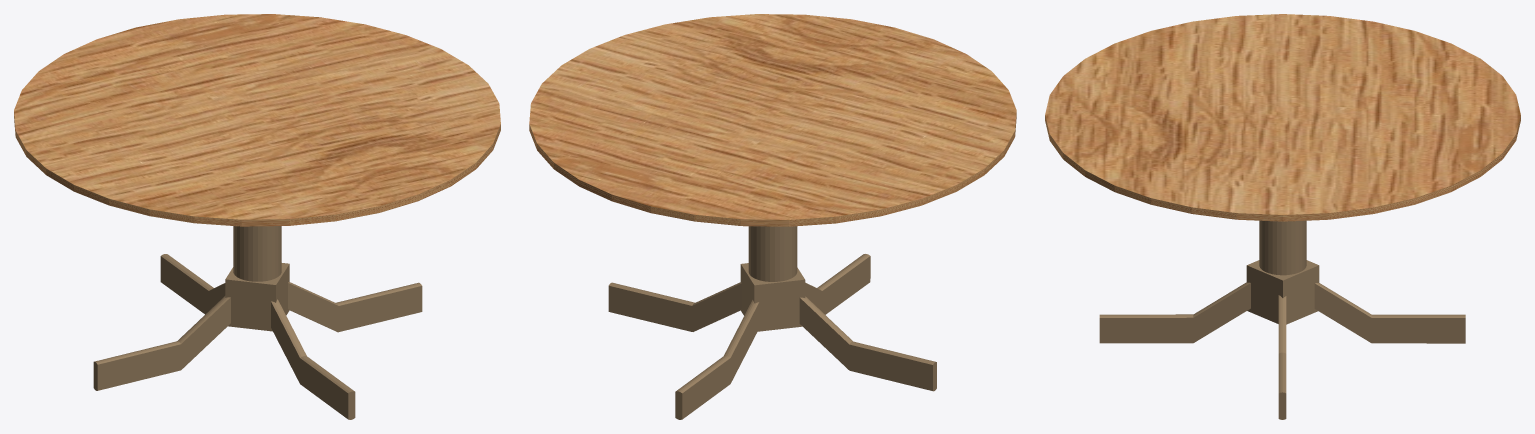
File: Table.fbx
The picture shows the model from 3 angles, left to right: view 1: azimuth 30°, elevation 25°; view 2: azimuth 150°, elevation 25°; view 3: azimuth 270°, elevation 25°; orthographic projection. The views are drawn at different scales.
Visible parts, largest first — view 1: Table, Table leg, Table leg.002, Table leg.001, Cylinder, Cylinder.001, Table leg.003; view 2: Table, Table leg, Table leg.002, Table leg.003, Cylinder, Cylinder.001, Table leg.001; view 3: Table, Table leg.001, Table leg.003, Cylinder, Cylinder.001, Table leg.002.
Part boxes in pixels (bbox=[...]): Table: bbox=[14, 14, 500, 226]; Table leg: bbox=[93, 296, 230, 390]; Table leg.002: bbox=[288, 282, 422, 332]; Table leg.001: bbox=[271, 299, 355, 419]; Cylinder: bbox=[225, 263, 289, 331]; Cylinder.001: bbox=[233, 226, 281, 281]; Table leg.003: bbox=[160, 254, 225, 314]; Table: bbox=[529, 14, 1016, 226]; Table leg: bbox=[799, 296, 936, 391]; Table leg.002: bbox=[608, 282, 741, 331]; Table leg.003: bbox=[675, 300, 759, 419]; Cylinder: bbox=[740, 263, 805, 331]; Cylinder.001: bbox=[748, 226, 797, 281]; Table leg.001: bbox=[805, 254, 870, 314]; Table: bbox=[1045, 14, 1520, 221]; Table leg.001: bbox=[1099, 282, 1250, 343]; Table leg.003: bbox=[1314, 283, 1465, 343]; Cylinder: bbox=[1246, 260, 1319, 324]; Cylinder.001: bbox=[1259, 220, 1306, 275]; Table leg.002: bbox=[1278, 295, 1286, 419].
Bounding box in the file's own units: 1013 × 536 × 1013.
